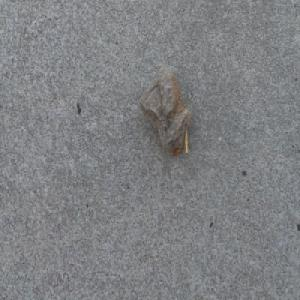Rock: (139, 67, 191, 159)
